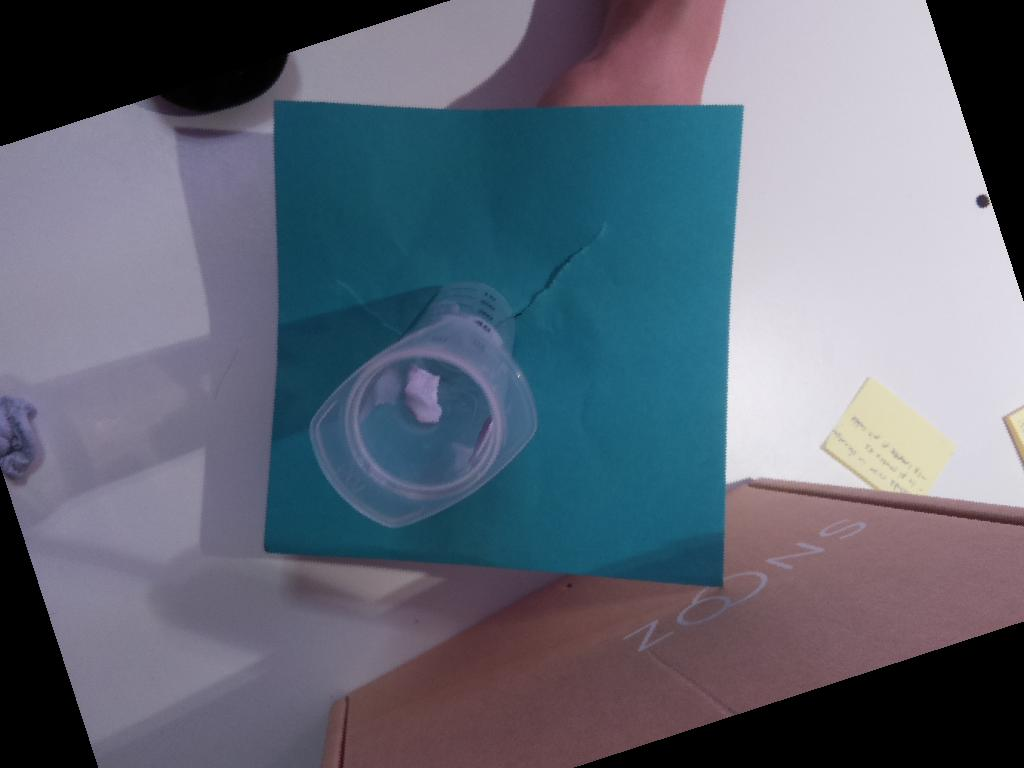dirty: (309, 318, 539, 524)
